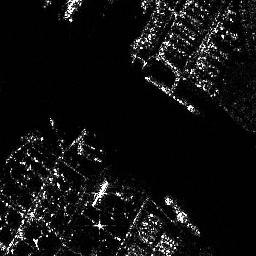ship: (164, 194, 201, 235)
